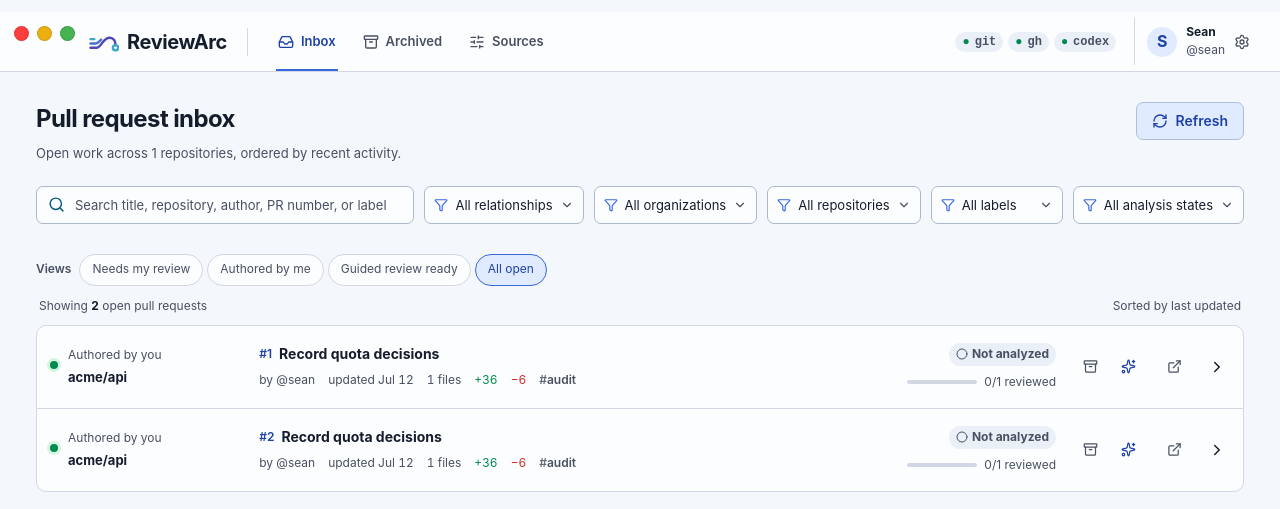
Test: App startup › preserves both queued states when inbox analysis requests resolve out of order
Click the button named "Analyze acme/api pull request #1".
click(1128, 367)  # box [1112,351,1144,383]
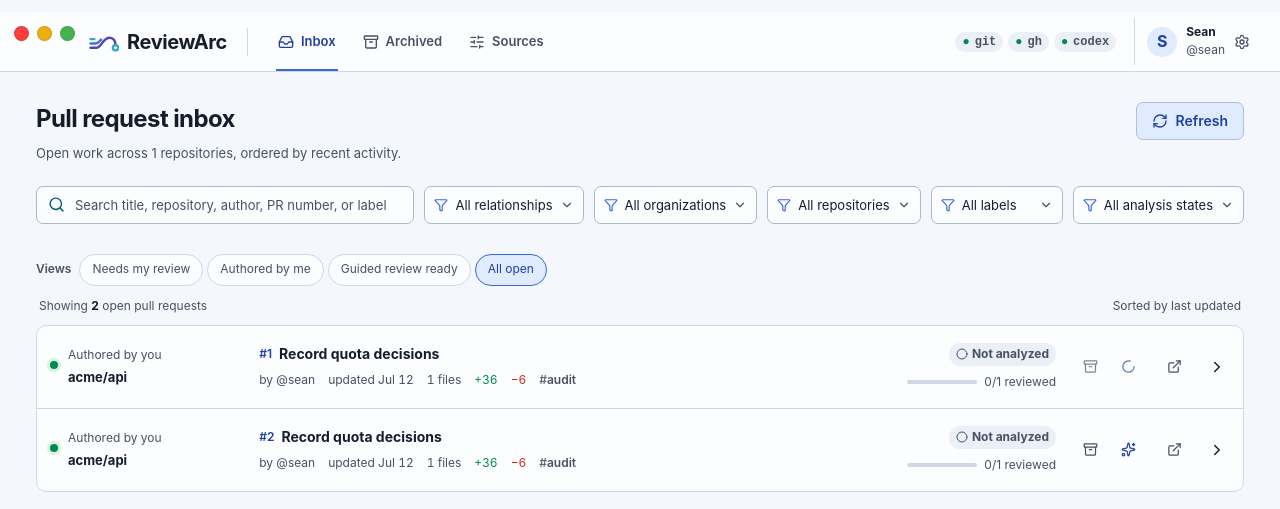
Click the button named "Analyze acme/api pull request #2".
click(1128, 450)  # box [1112,434,1144,466]
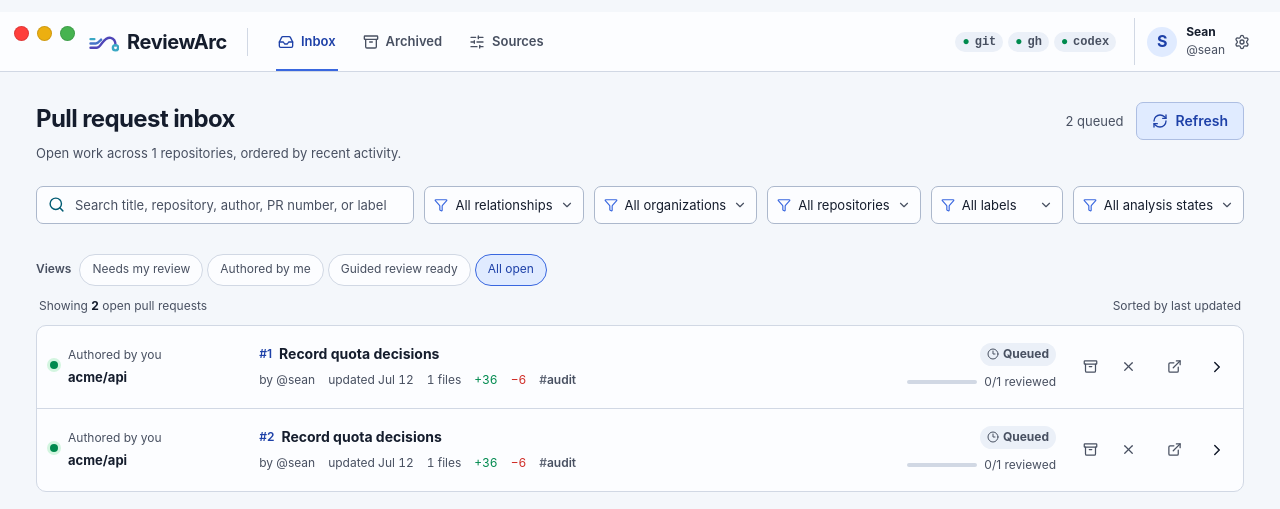
Check: the button named "Cancel acme/api pull request #1" is shown, box [1112,351,1144,383]
Check: the button named "Cancel acme/api pull request #2" is shown, box [1112,434,1144,466]
Check: the text "2 queued" is shown, box [1066,112,1124,130]
